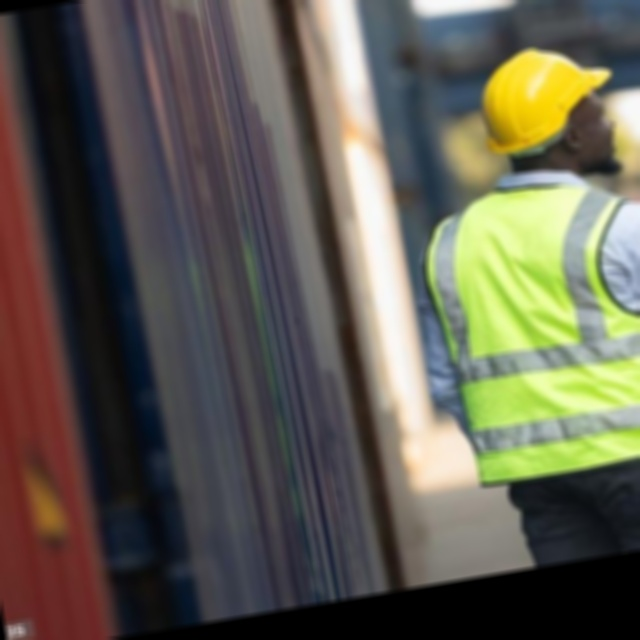Con_Casco: (474, 35, 631, 192)
Con_Chaleco: (411, 161, 640, 490)
